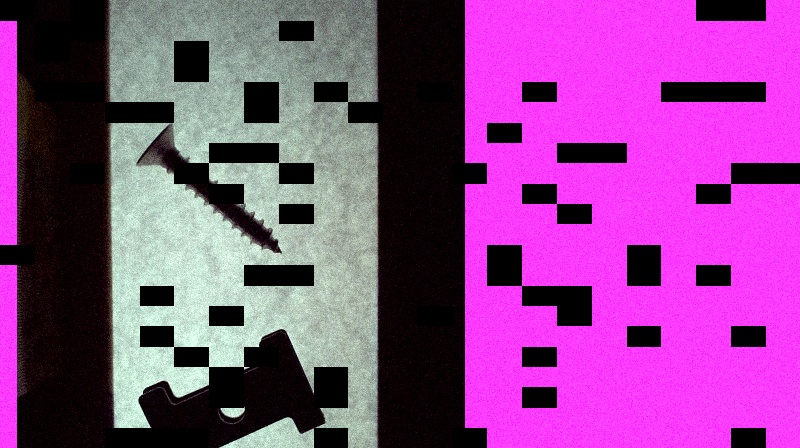O002: (138, 325, 327, 447)
S001: (132, 121, 285, 258)
